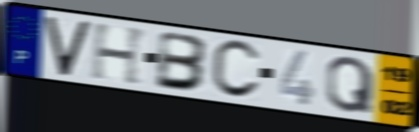4: (277, 47, 317, 109)
B: (154, 29, 211, 93)
C: (209, 39, 263, 101)
H: (89, 22, 150, 88)
Q: (325, 55, 376, 116)
V: (43, 16, 93, 78)
